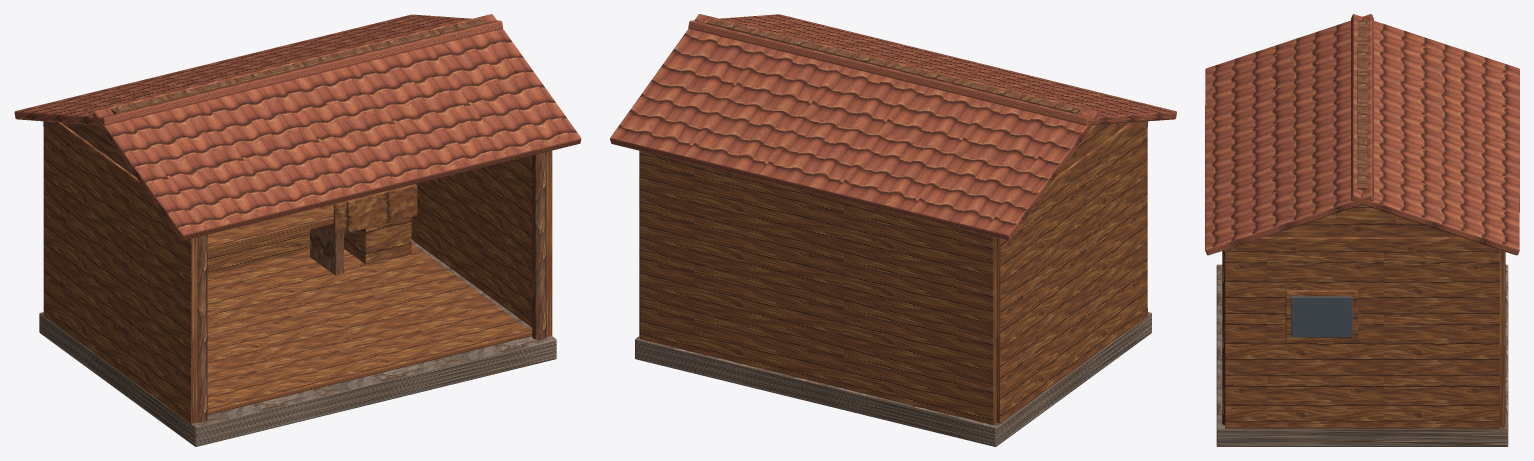
File: workshop_lod1.glb
The picture shows the model from 3 angles, left to right: view 1: azimuth 30°, elevation 25°; view 2: azimuth 150°, elevation 25°; view 3: azimuth 270°, elevation 25°; orthographic projection. The views are drawn at different scales.
Visible parts, largest first — view 1: stage3_shell_merged, stage1_foundation_merged, stage4_complete_merged, stage2_frame_merged; view 2: stage3_shell_merged, stage1_foundation_merged, stage2_frame_merged; view 3: stage3_shell_merged, stage1_foundation_merged, stage4_complete_merged, stage2_frame_merged.
Boxes of the visible parts, x1,y1,x2,y2 form: stage3_shell_merged: (14,14,581,423); stage1_foundation_merged: (39,240,556,446); stage4_complete_merged: (207,184,417,275); stage2_frame_merged: (43,19,546,422); stage3_shell_merged: (610,14,1176,424); stage1_foundation_merged: (635,312,1151,446); stage2_frame_merged: (706,19,1147,128); stage3_shell_merged: (1205,14,1519,428); stage1_foundation_merged: (1216,264,1508,446); stage4_complete_merged: (1285,289,1358,342); stage2_frame_merged: (1222,20,1500,425).
Bounding box in the file's own units: 5.3 × 3.57 × 3.89.
Materials: 6 (5 with a texture image).
